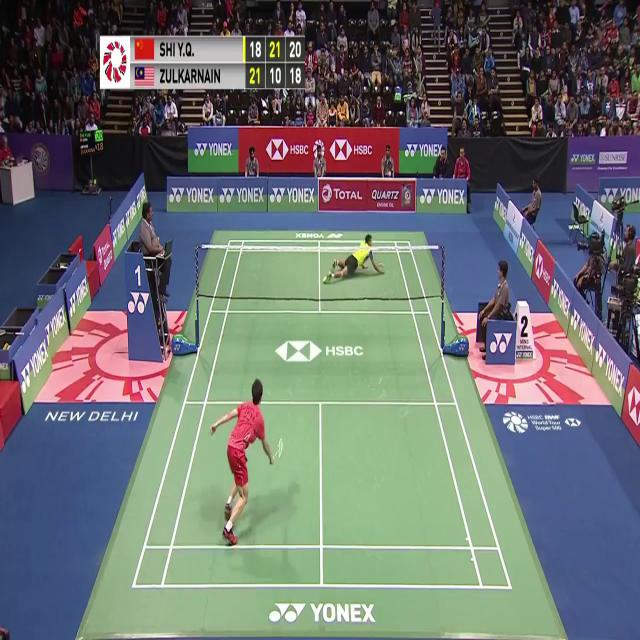Shuttlecock: (386, 168, 393, 179)
